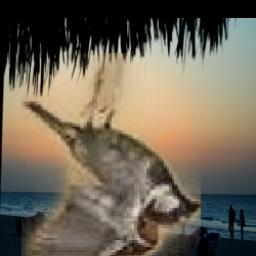Sparrow: (23, 54, 202, 256)
